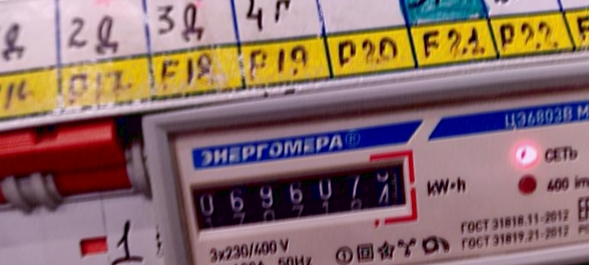0: (196, 191, 216, 217), (315, 174, 333, 201)
4: (374, 182, 392, 208)
6: (226, 187, 246, 213), (286, 179, 305, 204)
7: (345, 172, 363, 200)
9: (256, 183, 275, 209)
screen: (175, 143, 424, 247)
